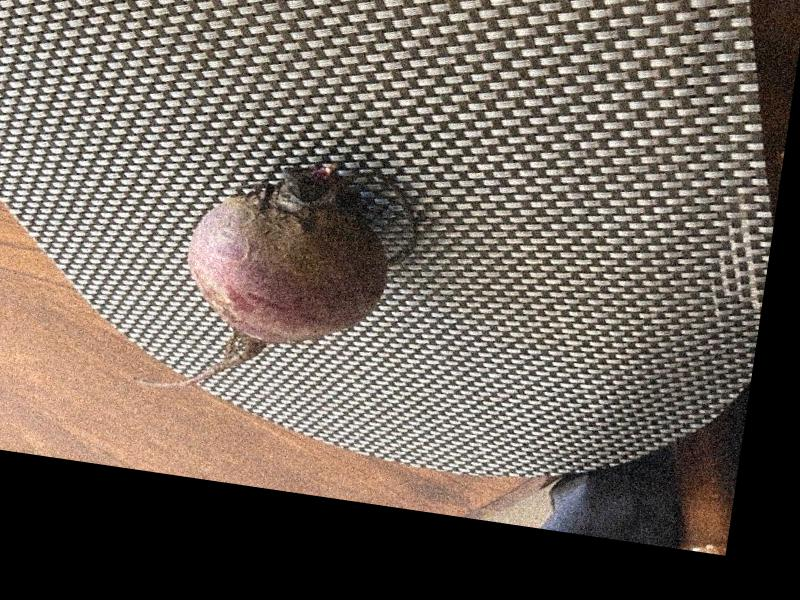Beet: (135, 140, 428, 421)
